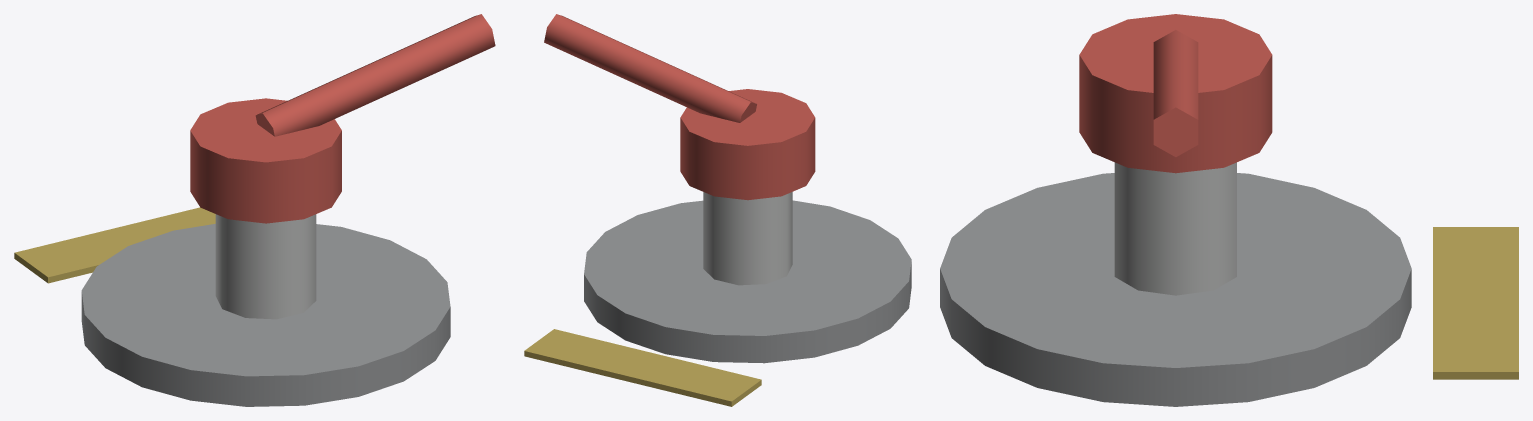
File: eqValve_steel.glb
The picture shows the model from 3 angles, left to right: view 1: azimuth 30°, elevation 25°; view 2: azimuth 150°, elevation 25°; view 3: azimuth 270°, elevation 25°; orthographic projection. The views are drawn at different scales.
Visible parts, largest first — view 1: eqValve_steel; view 2: eqValve_steel; view 3: eqValve_steel.
Boxes of the visible parts, <box> form: eqValve_steel: <box>14,14,495,406</box>; eqValve_steel: <box>524,14,911,406</box>; eqValve_steel: <box>940,14,1518,406</box>.
Bounding box in the file's own units: 0.2624 × 0.1718 × 0.27.
